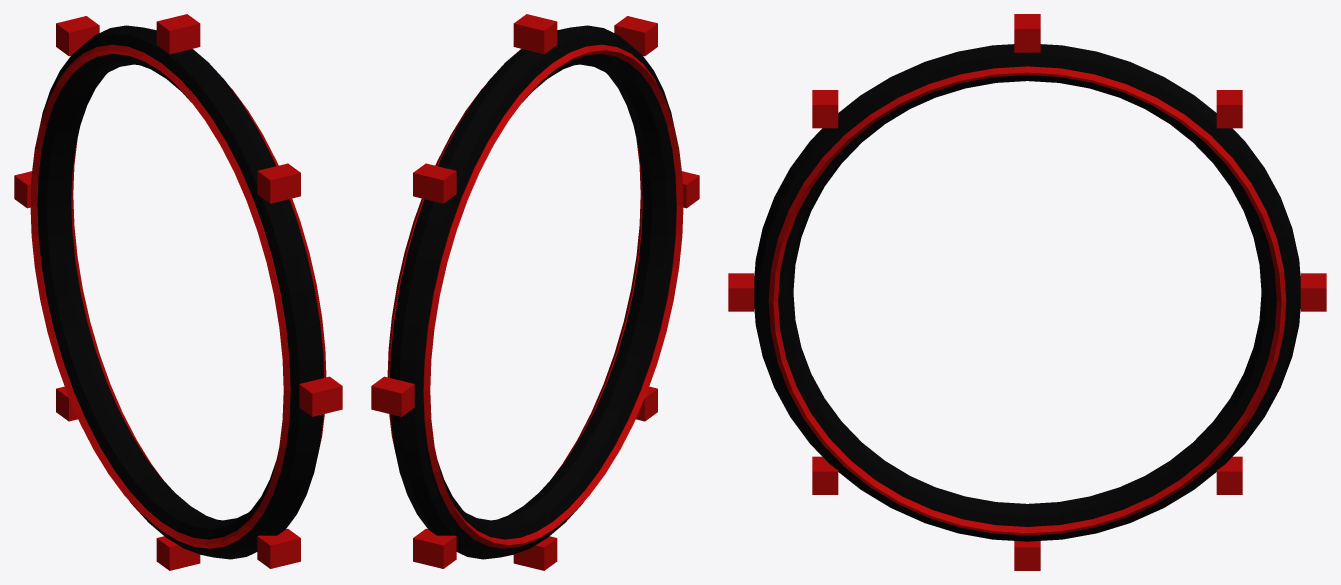
Rendered from ring_gate.glb.
The picture shows the model from 3 angles, left to right: view 1: azimuth 30°, elevation 25°; view 2: azimuth 150°, elevation 25°; view 3: azimuth 270°, elevation 25°; orthographic projection.
Parts seen in each view (by area): view 1: RingGate; view 2: RingGate; view 3: RingGate.
Part boxes in pixels (x1=…): RingGate: x1=14, y1=14, x2=342, y2=570; RingGate: x1=371, y1=14, x2=699, y2=570; RingGate: x1=728, y1=14, x2=1326, y2=570.
Size of the model in its own units: 0.42 by 5.06 by 5.06.
